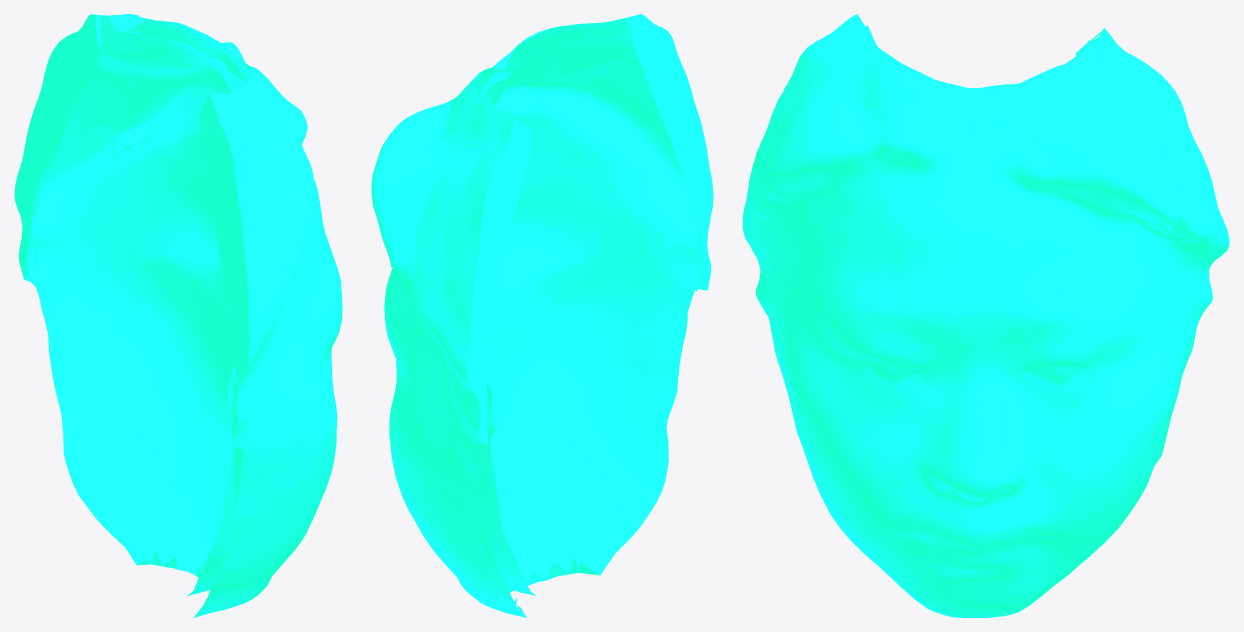
Rendered from DIP83js.glb.
The picture shows the model from 3 angles, left to right: view 1: azimuth 30°, elevation 25°; view 2: azimuth 150°, elevation 25°; view 3: azimuth 270°, elevation 25°; orthographic projection.
Visible parts, largest first — view 1: Object_2; view 2: Object_2; view 3: Object_2.
Part boxes in pixels (x1,y1,x2,y2): Object_2: (14, 14, 342, 617); Object_2: (371, 14, 713, 617); Object_2: (742, 14, 1229, 617).
Size of the model in its own units: 3.24 by 8.57 by 6.7.
